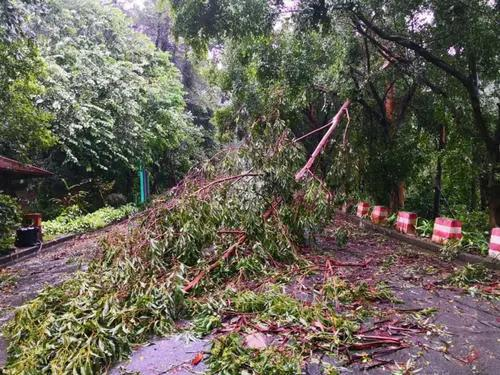Downstairs: (1, 65, 391, 375)
